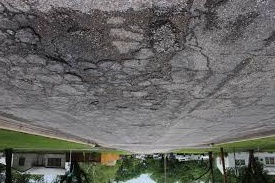pothole: (1, 4, 180, 65)
